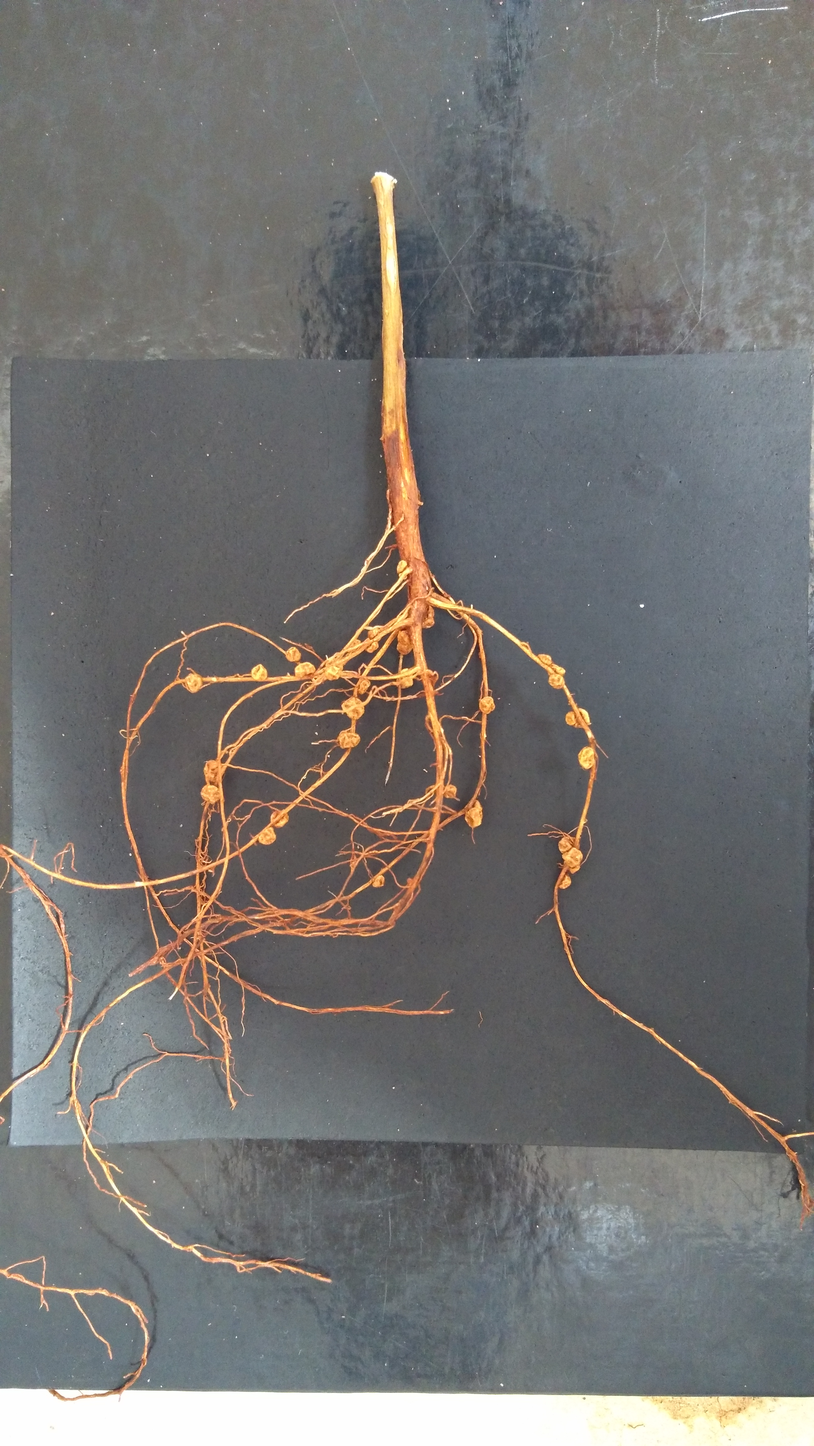nodule: (563, 707, 593, 730), (340, 696, 366, 722), (464, 799, 484, 828), (394, 629, 415, 656), (560, 846, 584, 869), (575, 745, 596, 771), (337, 730, 362, 750), (183, 672, 204, 695), (199, 784, 222, 805), (557, 834, 581, 854), (269, 809, 291, 829), (256, 826, 277, 846), (293, 661, 317, 678), (202, 759, 219, 783), (249, 662, 269, 682), (478, 696, 497, 715), (284, 645, 303, 663), (547, 672, 565, 691), (324, 665, 343, 682), (421, 605, 435, 628), (395, 674, 414, 690), (557, 873, 573, 890), (548, 662, 566, 676), (364, 640, 380, 655), (357, 679, 371, 696), (346, 639, 363, 652), (444, 784, 457, 801), (366, 627, 381, 641), (537, 653, 553, 666), (371, 875, 386, 888), (395, 558, 408, 573), (568, 864, 581, 874), (397, 571, 408, 580)
